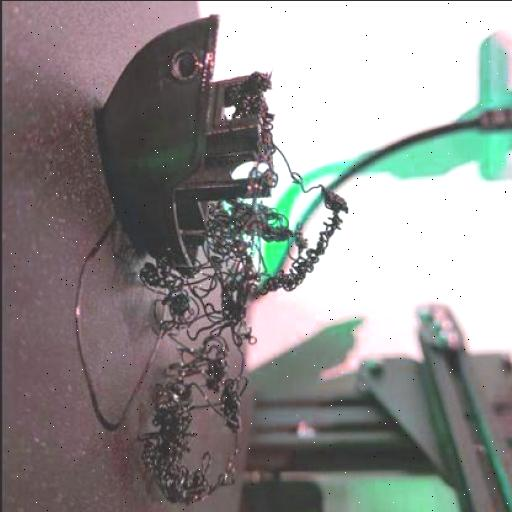spaghetti: (136, 159, 349, 506), (224, 71, 276, 155)
